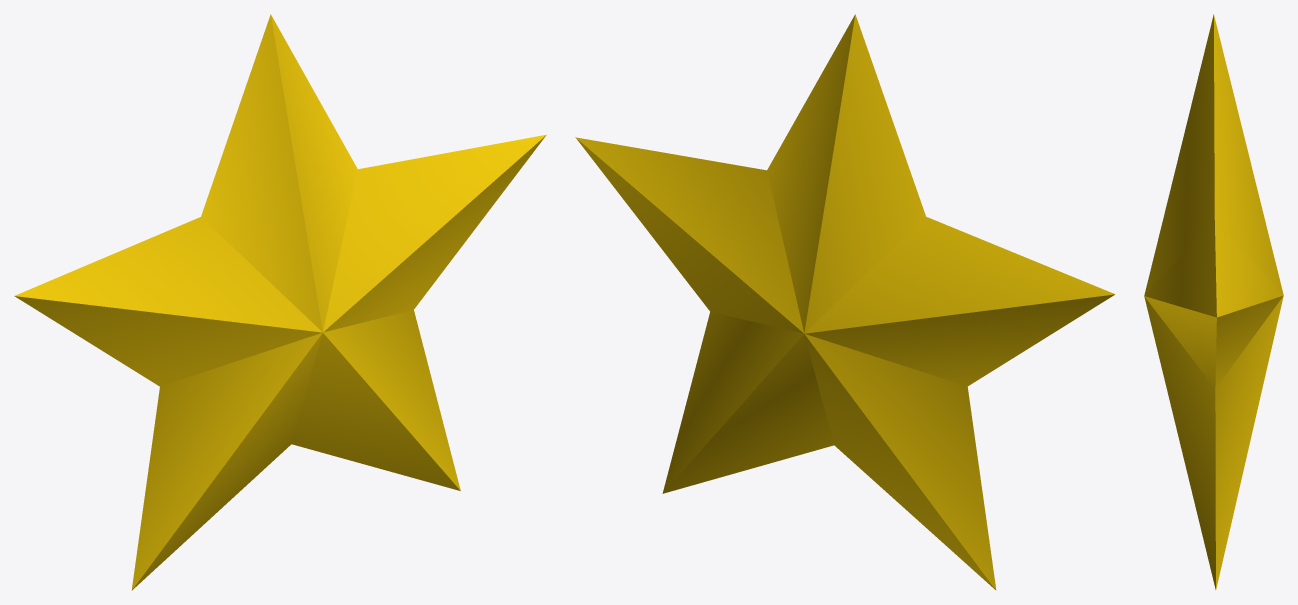
File: star.glb
The picture shows the model from 3 angles, left to right: view 1: azimuth 30°, elevation 25°; view 2: azimuth 150°, elevation 25°; view 3: azimuth 270°, elevation 25°; orthographic projection. The views are drawn at different scales.
Visible parts, largest first — view 1: Star; view 2: Star; view 3: Star.
Boxes of the visible parts, x1,y1,x2,y2 form: Star: (14, 14, 546, 590); Star: (575, 14, 1114, 590); Star: (1144, 14, 1283, 589).
Bounding box in the file's own units: 0.0302 × 0.0292 × 0.0073.
